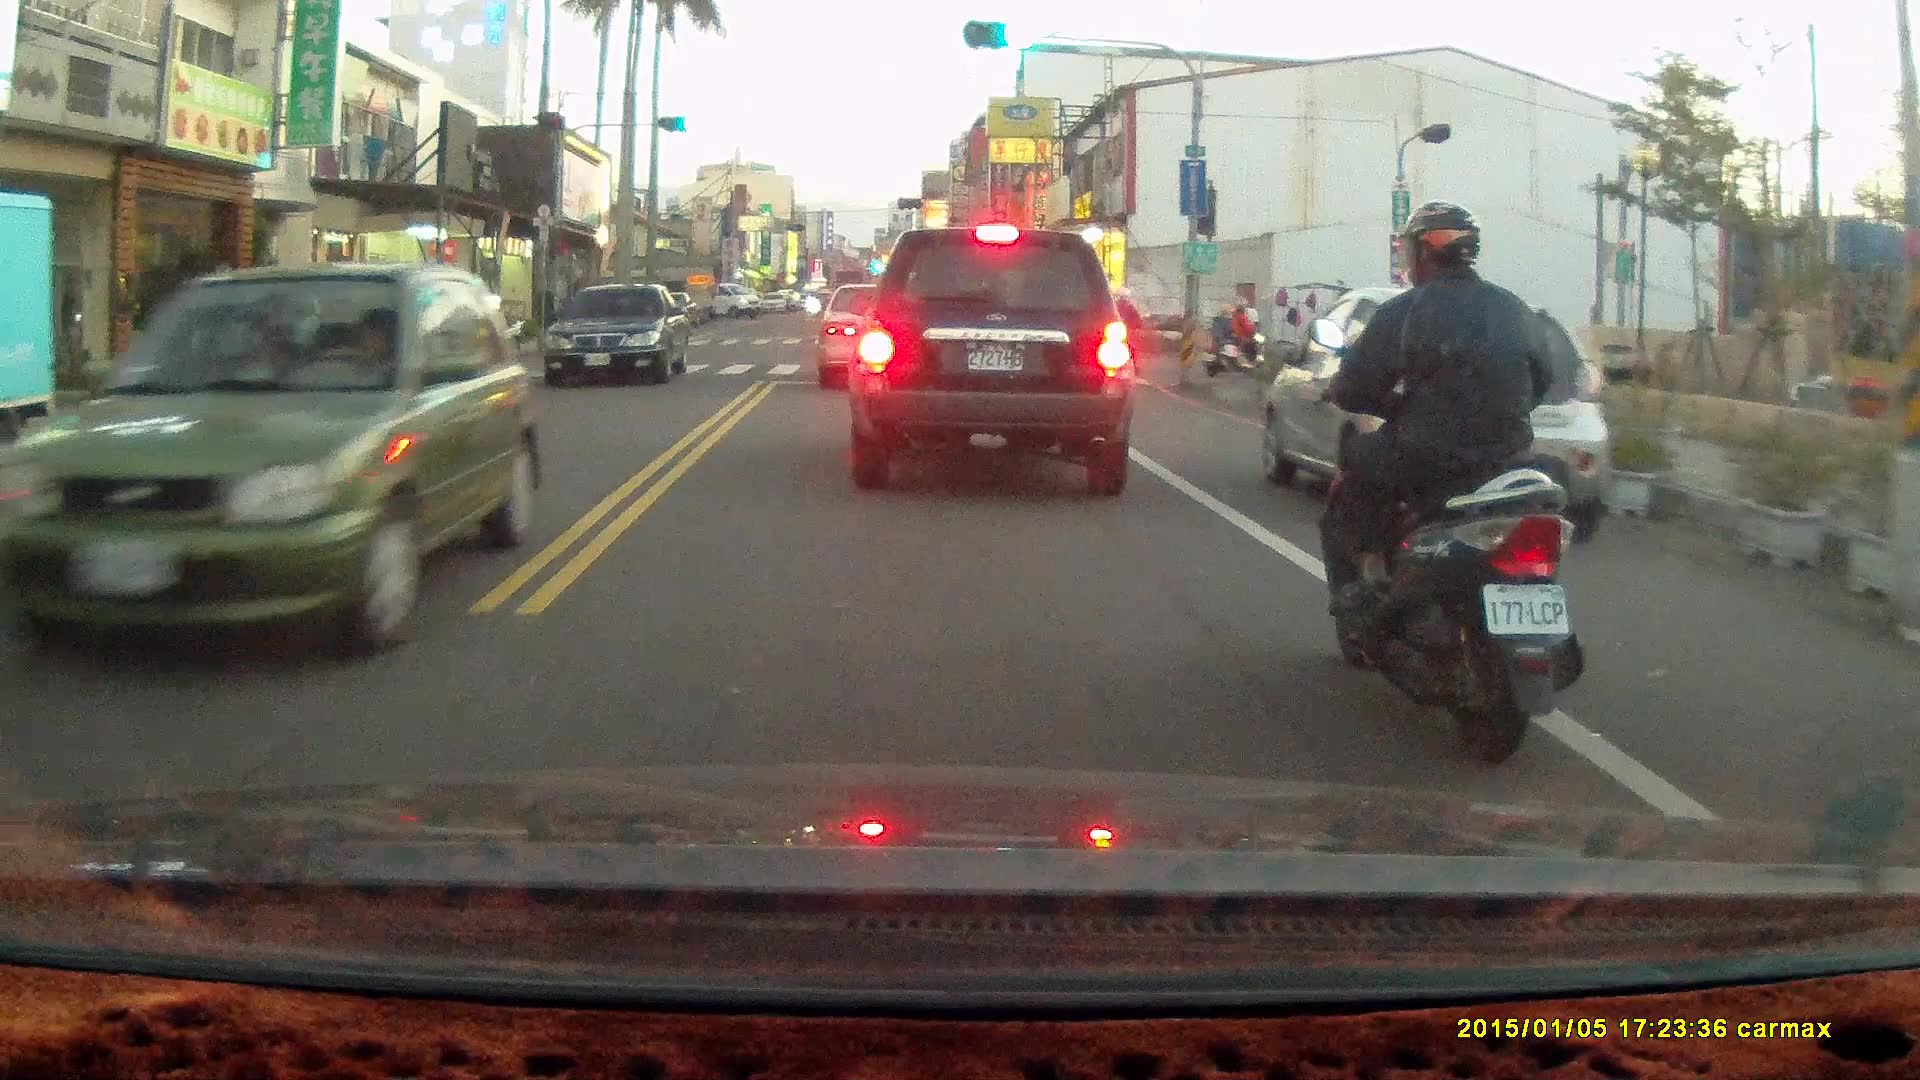rider: (1308, 200, 1586, 769), (1098, 283, 1148, 385), (1203, 295, 1264, 375)
vehicle: (1, 259, 549, 677), (1255, 289, 1617, 546), (852, 223, 1134, 500), (1, 191, 63, 500), (547, 283, 693, 391), (817, 283, 940, 397)
